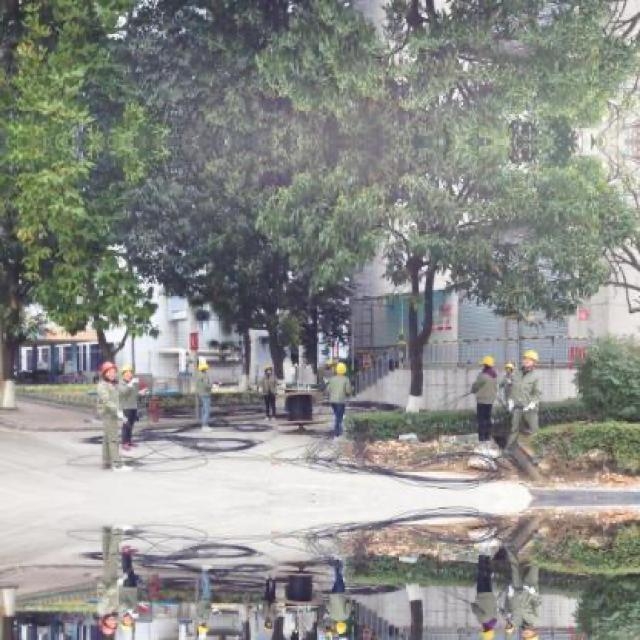helmet: (98, 612, 118, 637), (98, 361, 118, 385), (522, 348, 540, 372), (477, 353, 497, 373), (477, 624, 498, 638), (334, 361, 351, 378), (119, 612, 132, 634), (119, 364, 132, 385), (198, 361, 214, 378), (334, 622, 351, 638), (520, 626, 540, 639), (198, 622, 214, 638)
